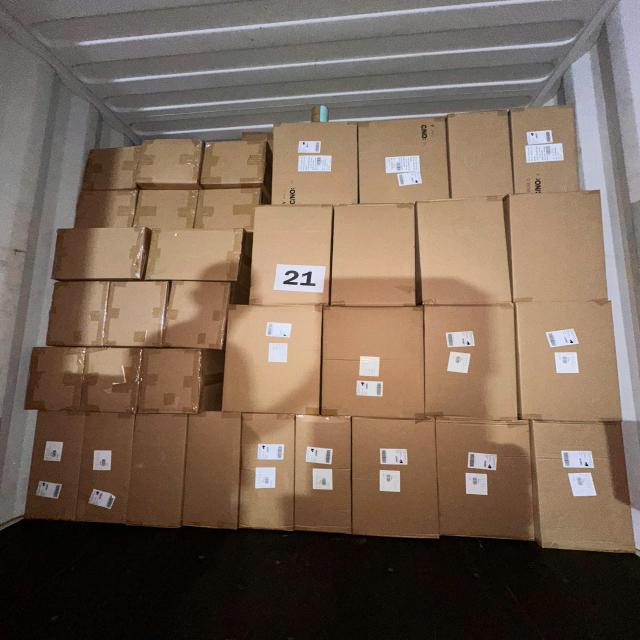Carton: (529, 421, 632, 556), (514, 300, 621, 424), (435, 419, 537, 545), (319, 304, 424, 420), (426, 302, 520, 422), (509, 195, 607, 309), (348, 418, 438, 542), (227, 310, 325, 420), (414, 200, 509, 310), (338, 206, 423, 311), (249, 208, 331, 310), (362, 114, 452, 205), (21, 408, 88, 523), (274, 121, 360, 208), (293, 416, 351, 538), (186, 413, 242, 535), (244, 411, 298, 532), (131, 414, 186, 532), (513, 104, 580, 194), (78, 413, 130, 528), (450, 108, 514, 198), (147, 231, 246, 285), (51, 229, 146, 283), (23, 342, 91, 413), (166, 279, 229, 349), (140, 346, 203, 413), (109, 280, 168, 349), (86, 345, 144, 414), (49, 279, 107, 347)
